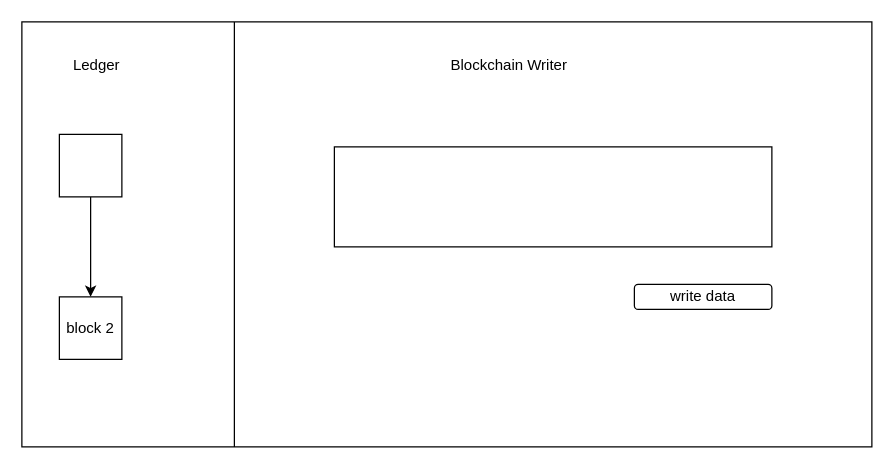
Some shapes in this 894 by 470 pixel diagram are drawn without their labels. The shapes that lost their labels are listed below. From the top down, each one's centre as x and y in pixels, then its label:
At pixel 90 165: "block 1".
At pixel 552 196: "text input...".
